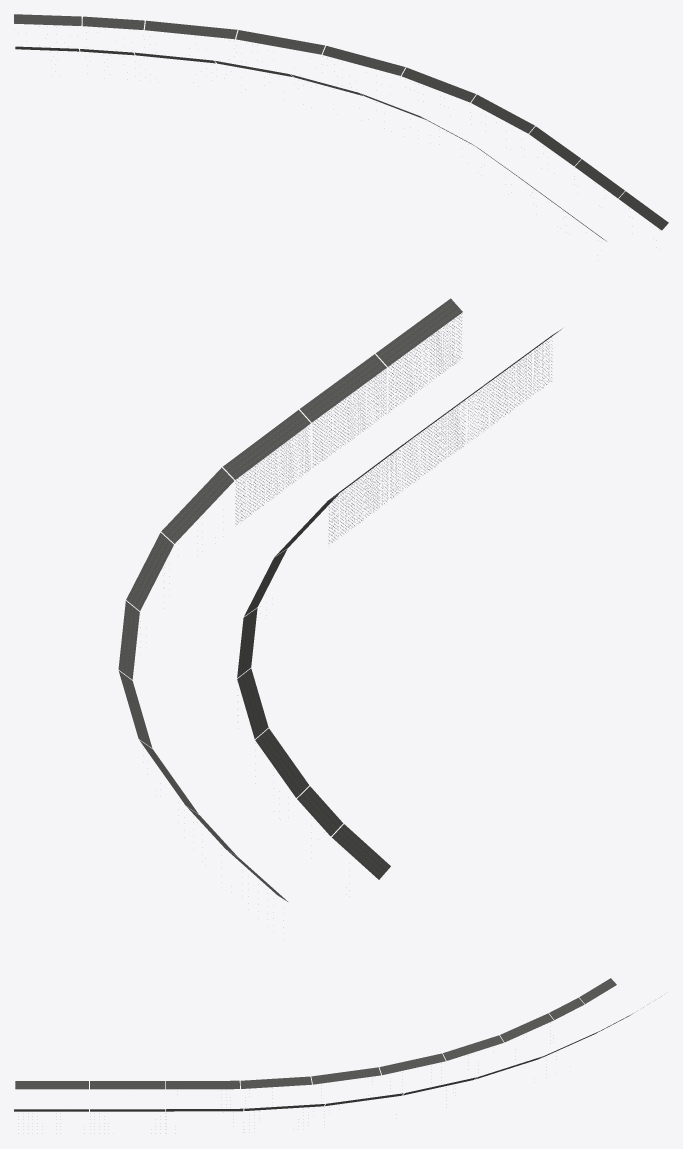
Rendered from vgnntrainfence03b.obj.
The picture shows the model from 3 angles, top to bottom: view 1: azimuth 30°, elevation 25°; view 2: azimuth 150°, elevation 25°; view 3: azimuth 270°, elevation 25°; orthographic projection. The views are drawn at different scales.
Parts seen in each view (by area): view 1: vgnNtrainfence03b; view 2: vgnNtrainfence03b; view 3: vgnNtrainfence03b.
Boxes of the visible parts, <box> form: vgnNtrainfence03b: <box>14,14,668,241</box>; vgnNtrainfence03b: <box>118,298,562,901</box>; vgnNtrainfence03b: <box>14,978,661,1111</box>.
Bounding box in the file's own units: 60.13 × 6.15 × 127.
Materials: 2 (2 with a texture image).
